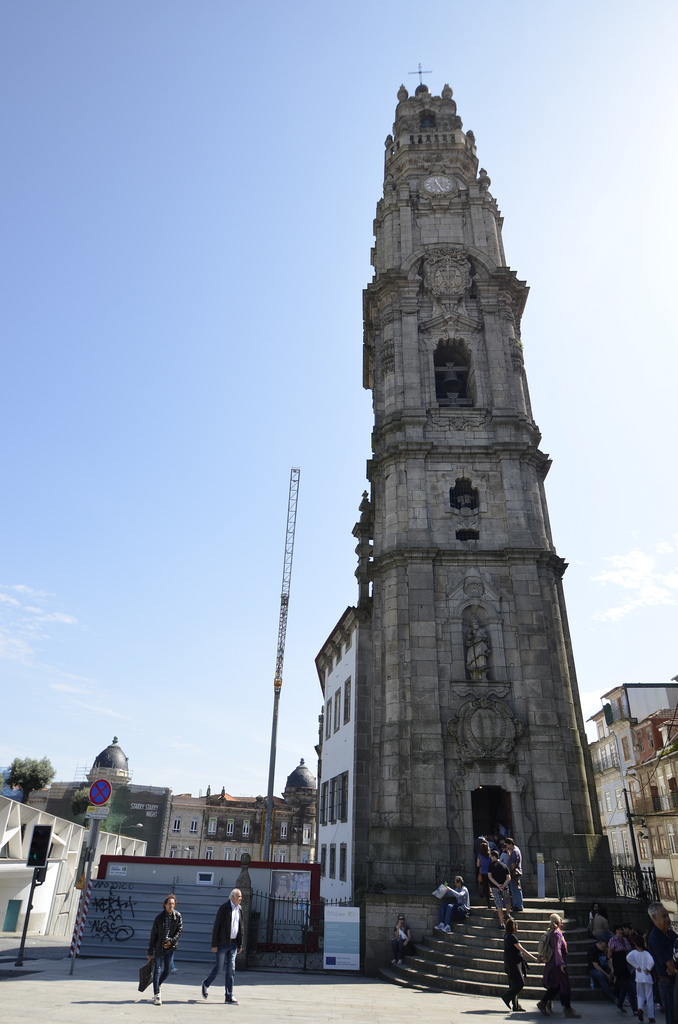clerigos: (351, 59, 621, 901)
